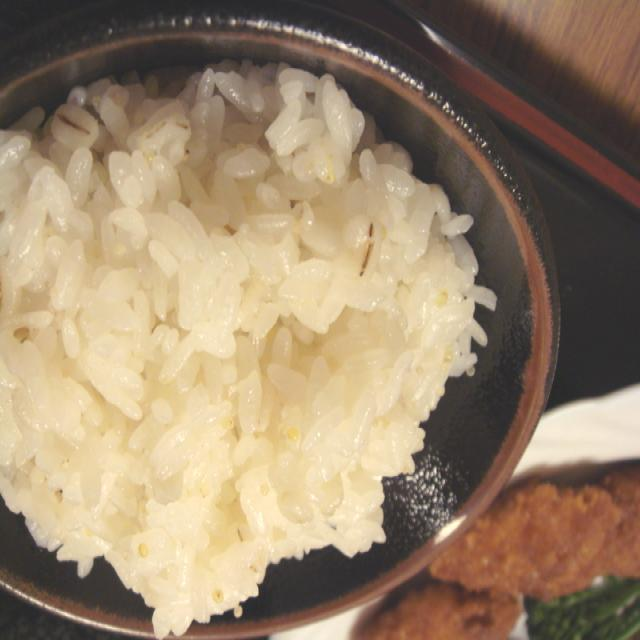nasi: (0, 55, 494, 636)
